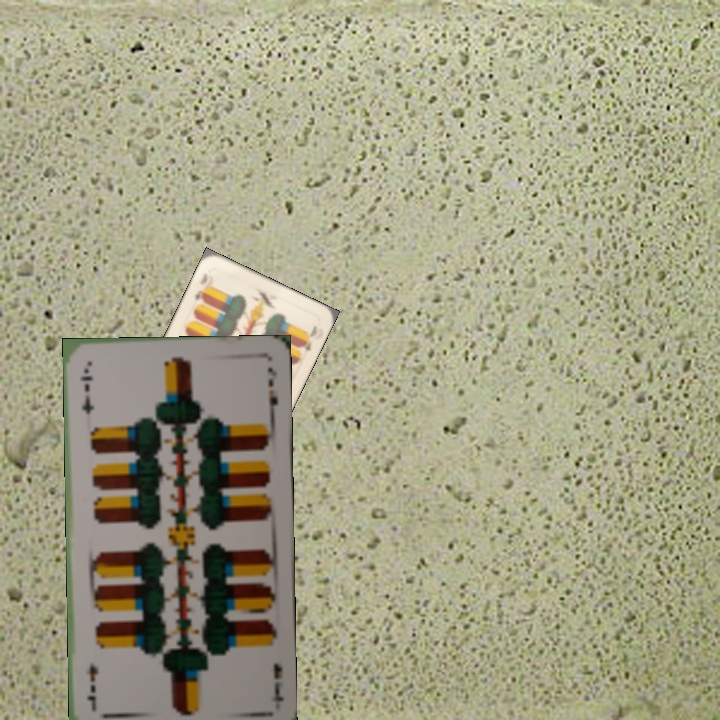E10: (191, 269, 210, 304)
E7: (76, 364, 96, 417), (267, 660, 286, 705)
